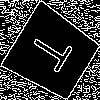T: (26, 28, 81, 78)
